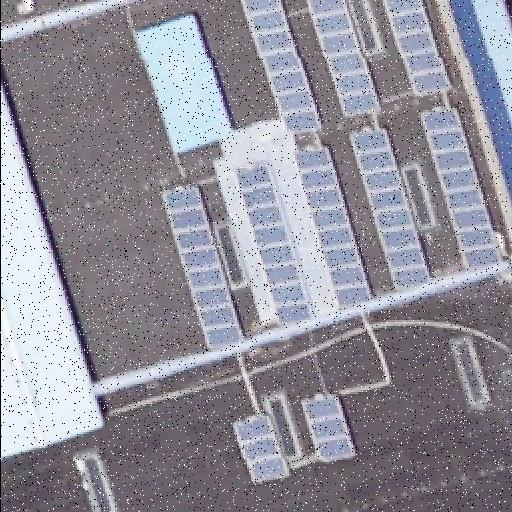solar-panel: (163, 183, 245, 353), (232, 163, 316, 325), (290, 147, 374, 309), (348, 127, 432, 289), (420, 106, 500, 270), (242, 1, 322, 135), (302, 0, 382, 120), (384, 0, 452, 96), (231, 412, 289, 488), (300, 393, 356, 463)
